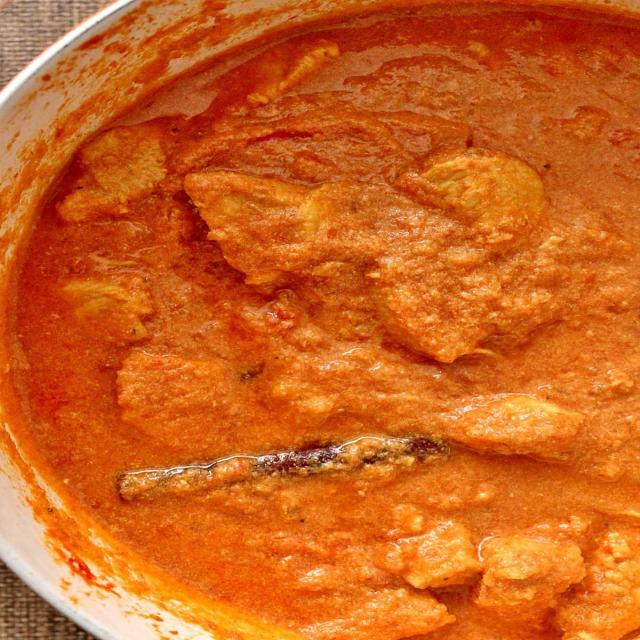chicken: (2, 13, 640, 634)
